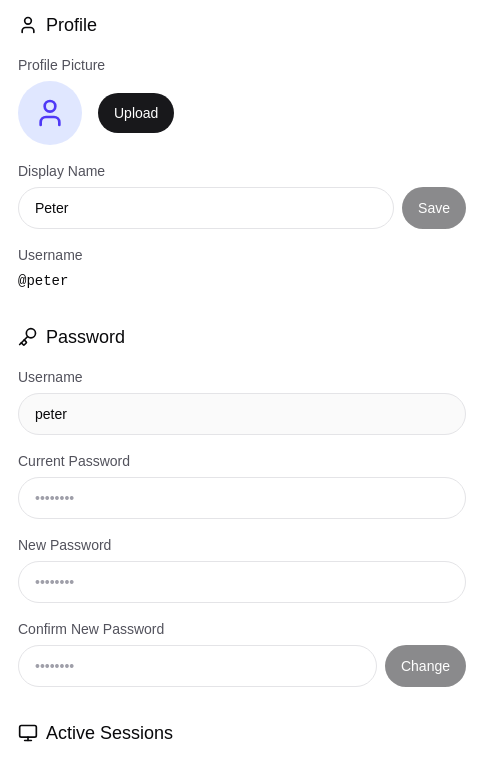
Test: SettingsSection › clears the input after a successful display name save
Replace the text in the field labelled "Display Name" with "Petra" at point(206, 208), box [18,187,394,229]
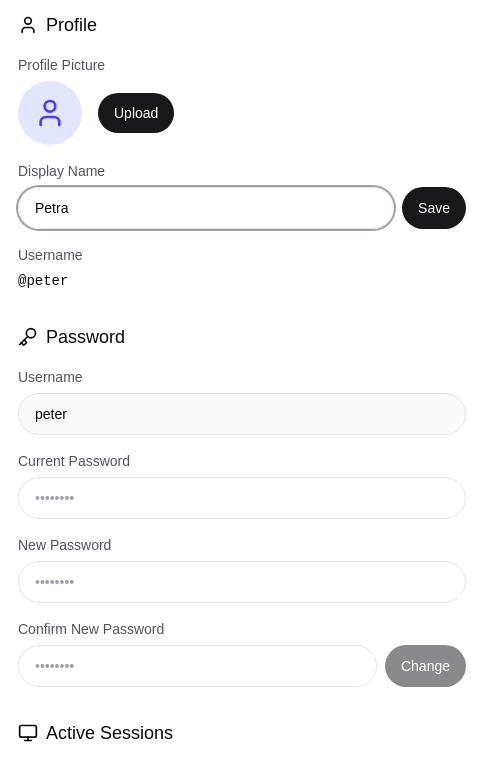
Click the button "Save" at point(434, 208), box [402,187,466,229]
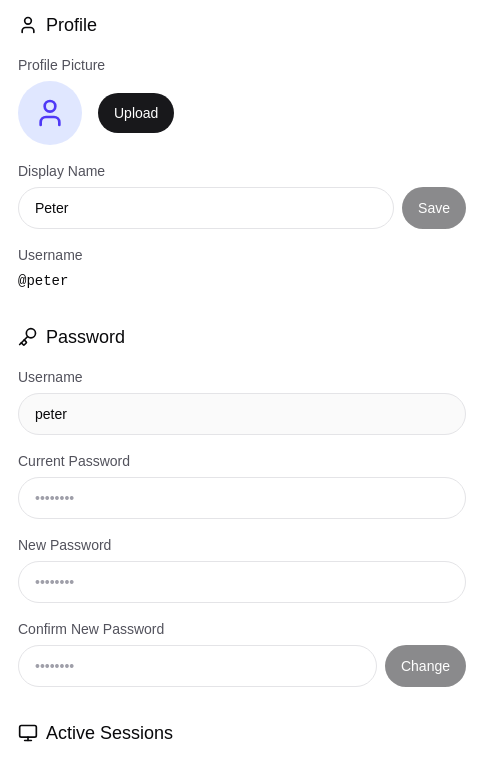
Expected: the field labelled "Display Name" holds "Peter", [18,187,394,229]
Expected: the button "Save" is disabled, [402,187,466,229]
